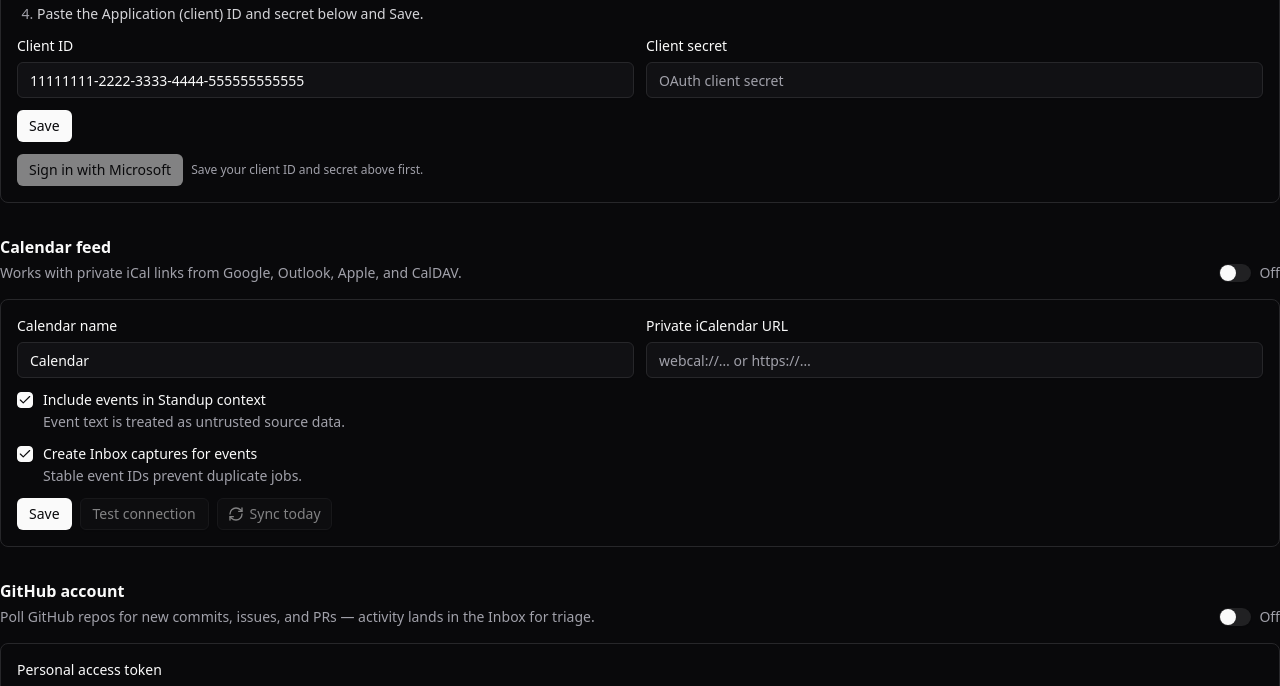
Scenario: ConnectionsSection › tests the feed and renders its event preview
The width and height of the screenshot is (1280, 686).
(page scrolled)
Step 1. Type "https://calendar.example/private.ics" into the field with placeholder "webcal://… or https://…" → (954, 360), box [646, 342, 1263, 378]
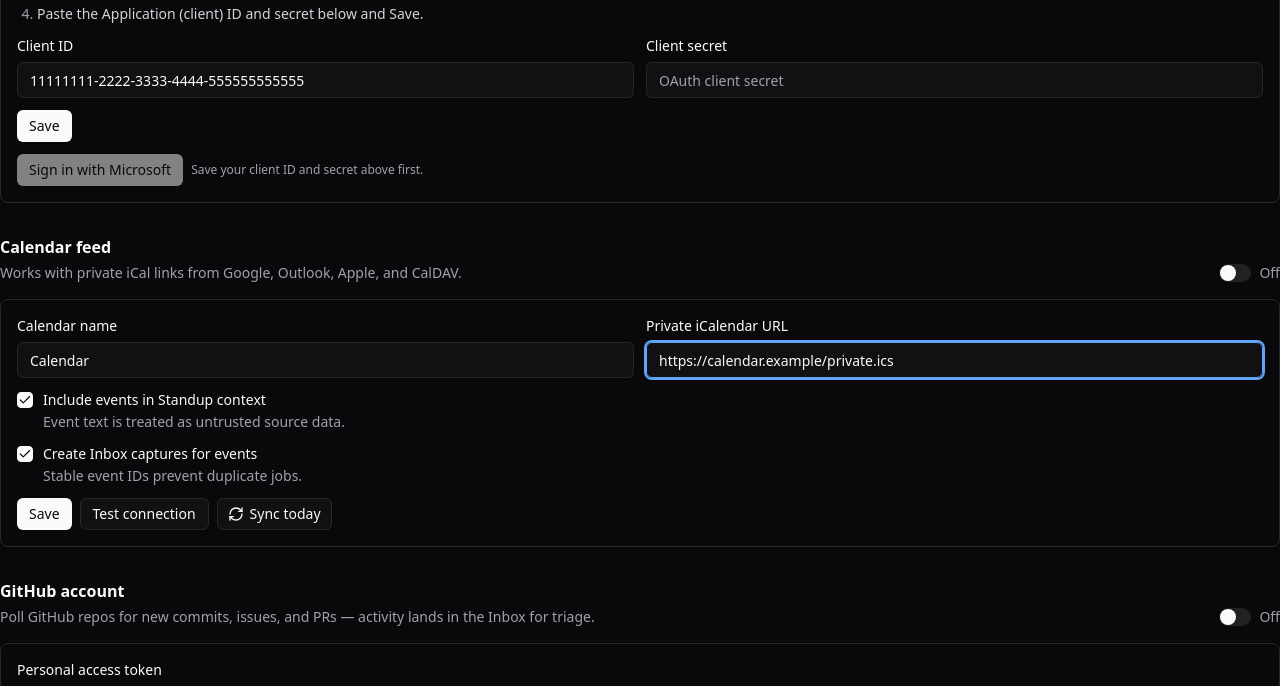
Step 2. Click the button "Test connection" → (144, 514), box [80, 498, 209, 530]
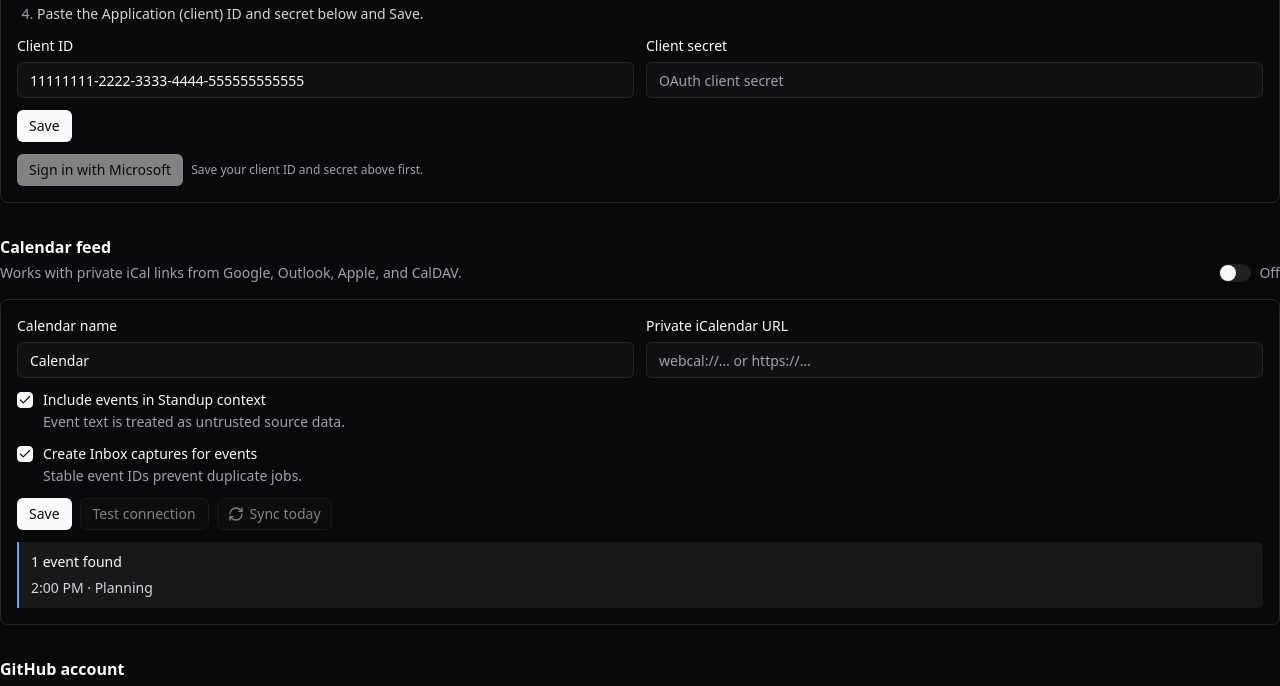
Now the text "1 event found" is shown, box [31, 552, 122, 571]
Now the text "2:00 PM · Planning" is shown, box [31, 578, 153, 597]
